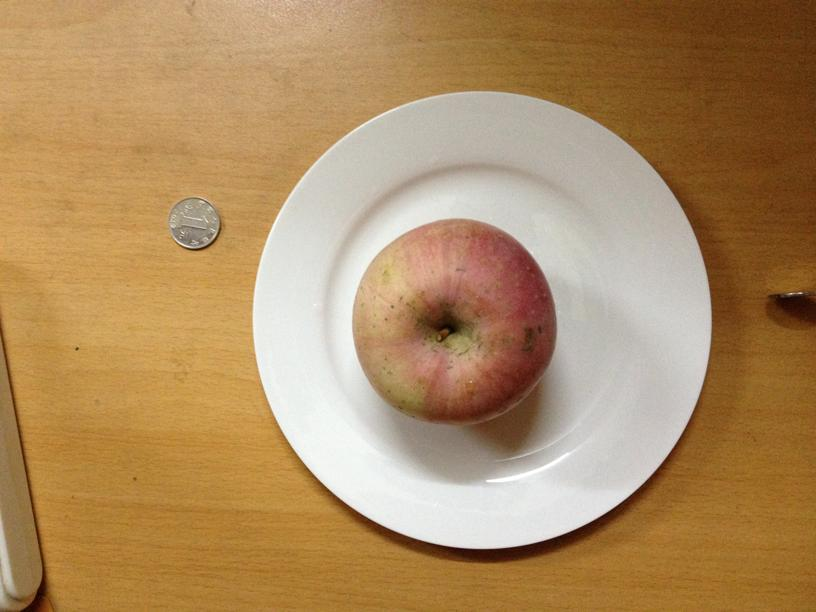apple: (355, 220, 555, 426)
coin: (169, 197, 222, 250)
